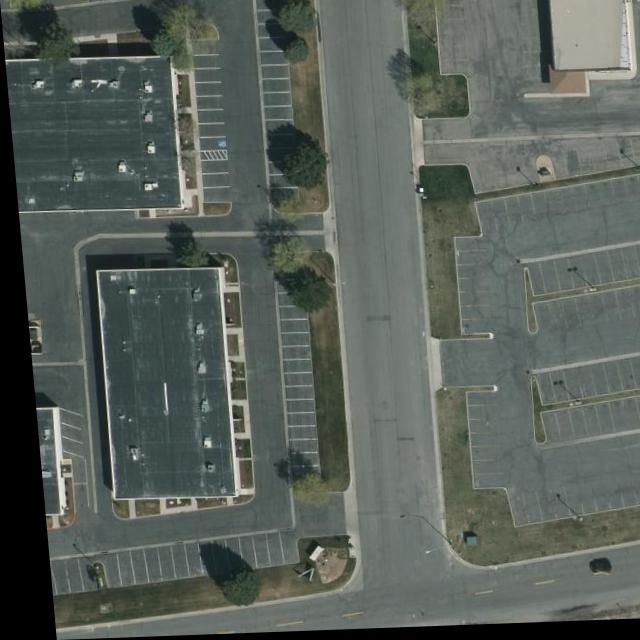vehicle: (579, 564, 602, 579)
